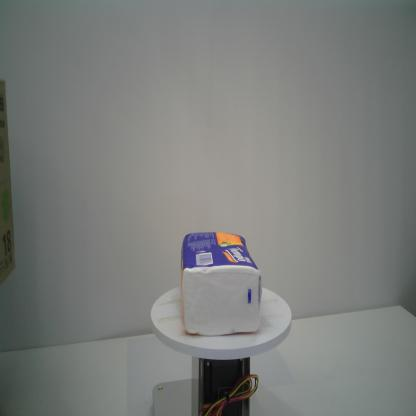Tissue: (179, 232, 262, 336)
